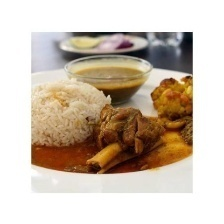rice: (31, 74, 112, 147)
